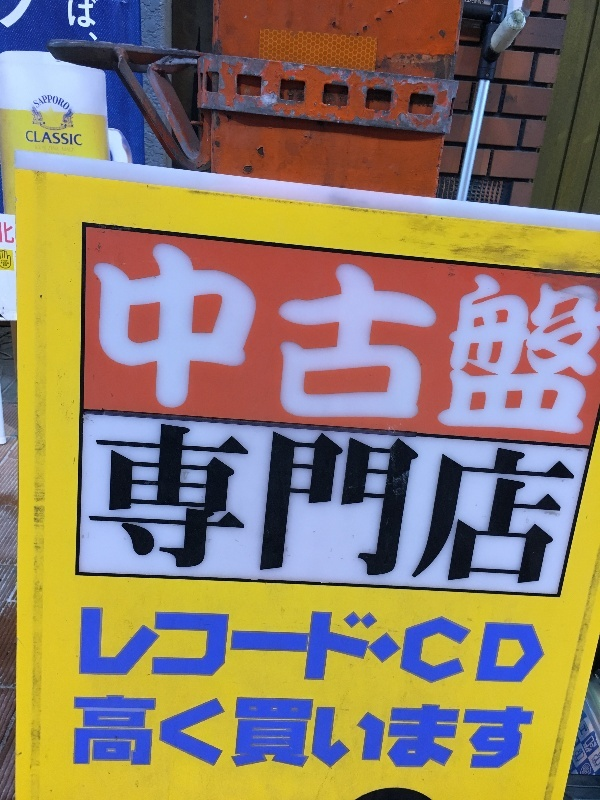text: (97, 239, 112, 442), (113, 239, 128, 442), (129, 239, 144, 442), (145, 239, 160, 442), (161, 239, 176, 442), (177, 239, 192, 442), (193, 239, 208, 442), (209, 239, 224, 442), (225, 239, 240, 442), (241, 239, 256, 442), (257, 239, 272, 442), (273, 239, 288, 442), (289, 239, 304, 442), (305, 239, 320, 442), (321, 239, 336, 442), (337, 239, 352, 442), (353, 239, 368, 442), (369, 239, 384, 442), (385, 239, 400, 442), (401, 239, 416, 442), (417, 239, 432, 442), (433, 239, 448, 442), (449, 239, 464, 442), (465, 239, 480, 442), (481, 239, 496, 442), (497, 239, 512, 442), (513, 239, 528, 442), (529, 239, 544, 442), (545, 239, 560, 442), (561, 239, 576, 442), (577, 239, 592, 442), (97, 420, 112, 587), (113, 420, 128, 587), (129, 420, 144, 587), (145, 420, 160, 587), (161, 420, 176, 587), (177, 420, 192, 587), (193, 420, 208, 587), (209, 420, 224, 587), (225, 420, 240, 587), (241, 420, 256, 587), (257, 420, 272, 587), (273, 420, 288, 587), (289, 420, 304, 587), (305, 420, 320, 587), (321, 420, 336, 587), (337, 420, 352, 587), (353, 420, 368, 587), (369, 420, 384, 587), (385, 420, 400, 587), (401, 420, 416, 587), (417, 420, 432, 587), (433, 420, 448, 587), (449, 420, 464, 587), (465, 420, 480, 587), (481, 420, 496, 587), (497, 420, 512, 587), (513, 420, 528, 587), (529, 420, 544, 587), (545, 420, 560, 587), (561, 420, 576, 587), (593, 239, 600, 442), (81, 601, 96, 687), (97, 601, 112, 687), (113, 601, 128, 687), (129, 601, 144, 687), (145, 601, 160, 687), (161, 601, 176, 687), (177, 601, 192, 687), (193, 601, 208, 687), (209, 601, 224, 687), (225, 601, 240, 687), (241, 601, 256, 687), (257, 601, 272, 687), (273, 601, 288, 687), (289, 601, 304, 687), (305, 601, 320, 687), (321, 601, 336, 687), (337, 601, 352, 687), (353, 601, 368, 687), (369, 601, 384, 687), (385, 601, 400, 687), (401, 601, 416, 687), (417, 601, 432, 687), (433, 601, 448, 687), (449, 601, 464, 687), (465, 601, 480, 687), (481, 601, 496, 687), (497, 601, 512, 687), (513, 601, 528, 687), (529, 601, 544, 687), (81, 692, 96, 777), (97, 692, 112, 777), (113, 692, 128, 777), (129, 692, 144, 777), (145, 692, 160, 777), (161, 692, 176, 777), (177, 692, 192, 777), (193, 692, 208, 777), (209, 692, 224, 777), (225, 692, 240, 777), (241, 692, 256, 777), (257, 692, 272, 777), (273, 692, 288, 777), (289, 692, 304, 777), (305, 692, 320, 777), (321, 692, 336, 777), (337, 692, 352, 777), (353, 692, 368, 777), (369, 692, 384, 777), (385, 692, 400, 777), (401, 692, 416, 777), (417, 692, 432, 777), (433, 692, 448, 777), (449, 692, 464, 777), (465, 692, 480, 777), (481, 692, 496, 777), (497, 692, 512, 777), (513, 692, 528, 777), (92, 239, 96, 442), (529, 692, 536, 777), (74, 692, 80, 777), (577, 420, 580, 587), (17, 2, 32, 32), (81, 1, 96, 31), (2, 2, 16, 32), (66, 1, 80, 31), (1, 222, 16, 244), (33, 130, 48, 146), (49, 130, 64, 146), (65, 130, 80, 146), (33, 95, 48, 110), (49, 95, 64, 110), (26, 130, 32, 146), (65, 95, 71, 110), (79, 601, 80, 687), (545, 601, 546, 687), (1, 260, 16, 263), (1, 262, 16, 265), (97, 1, 98, 31), (3, 265, 16, 267), (81, 130, 82, 146)
